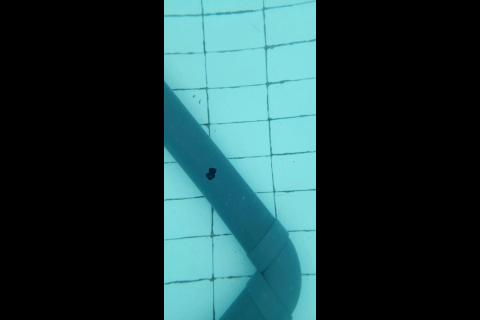kebocoran: (205, 166, 218, 182)
